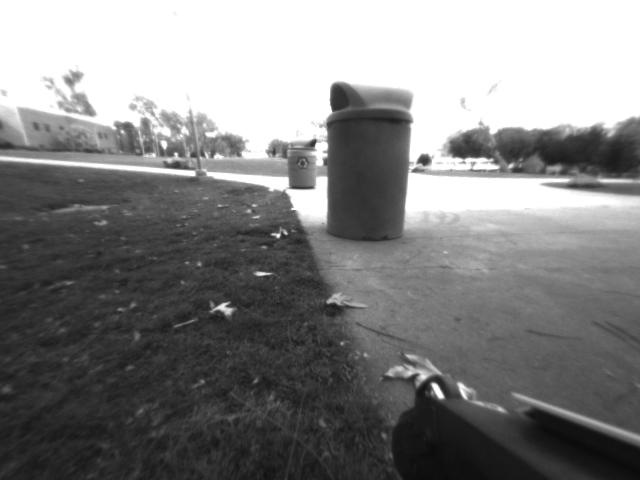trashcan: (312, 71, 423, 256)
